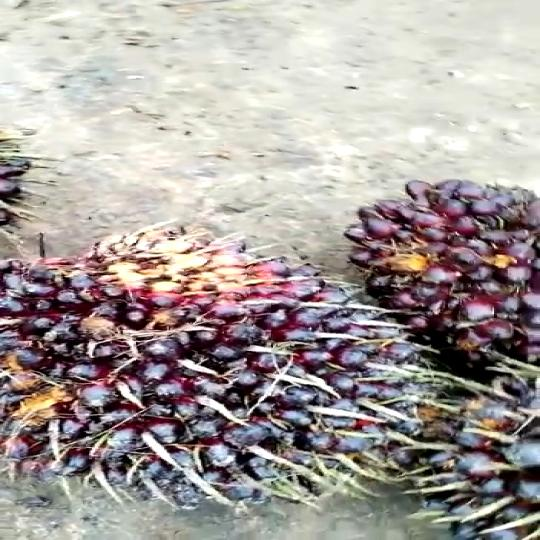kurang masak: (0, 221, 418, 498), (314, 181, 540, 400)
